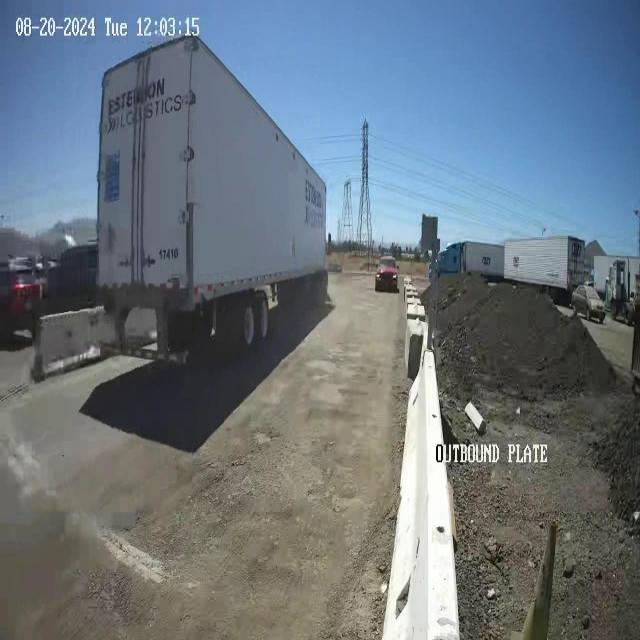TRUCK_CONTAINER: (95, 32, 329, 362)
